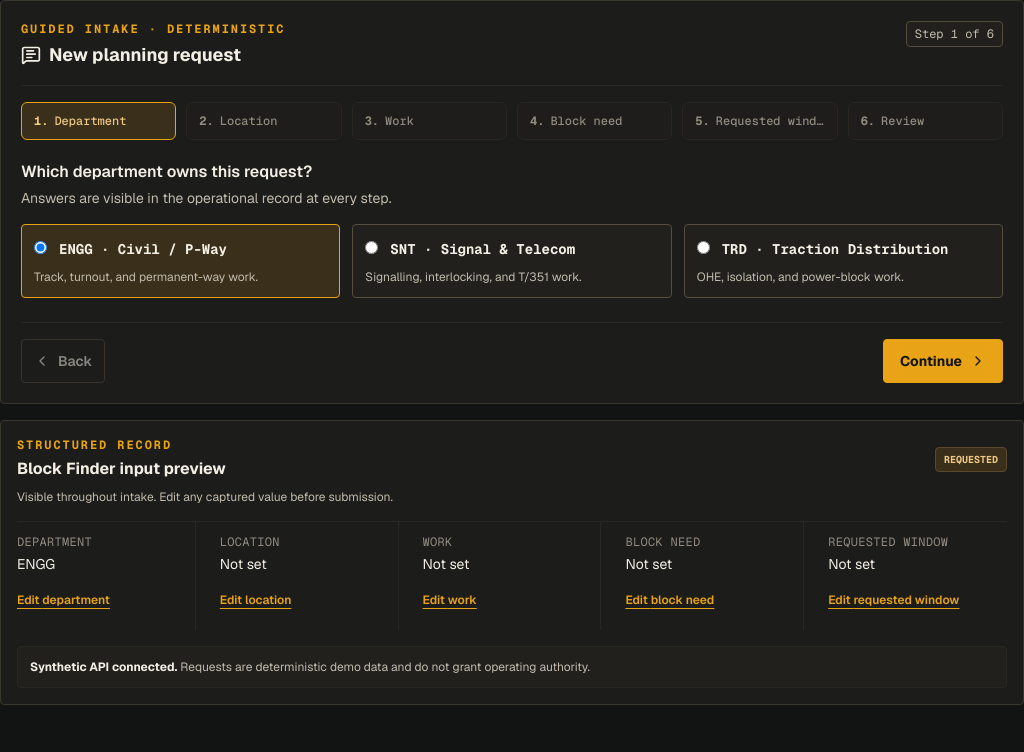
TicketComposer duration floor › states the statutory minimum for the chosen work type
Click the button "Continue".
click(943, 361)  # box [883,339,1003,383]
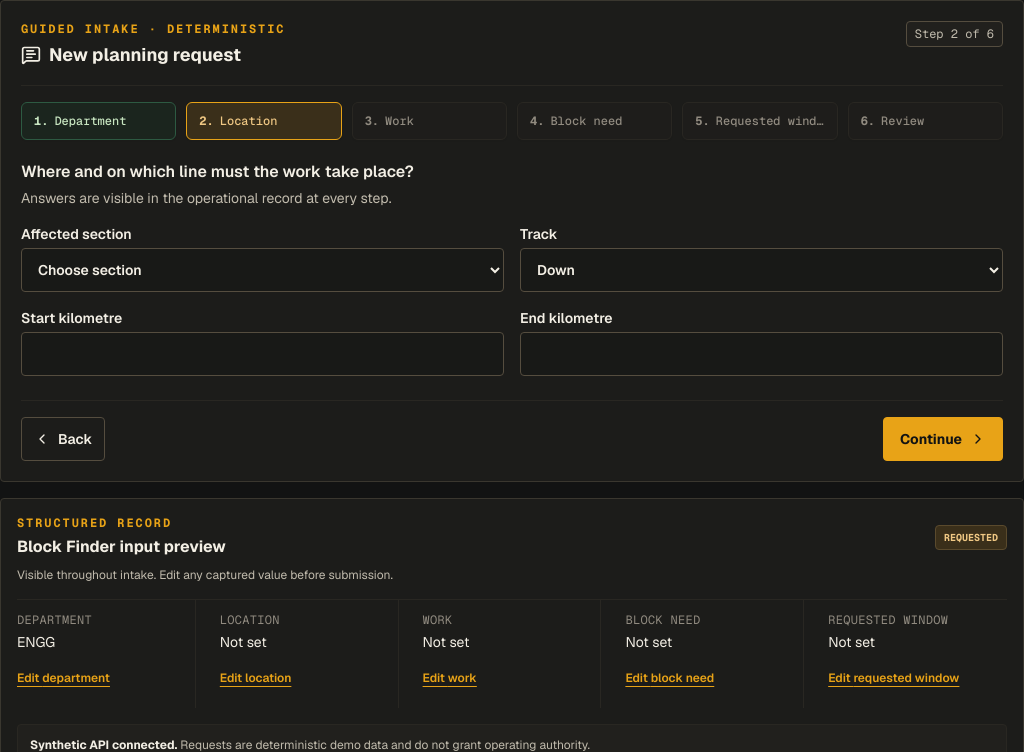
Select "Khurja–Somna (SEC_KRJ_SMQ)" in the dropdown labelled "Affected section" at (262, 270), box [21,248,504,292]
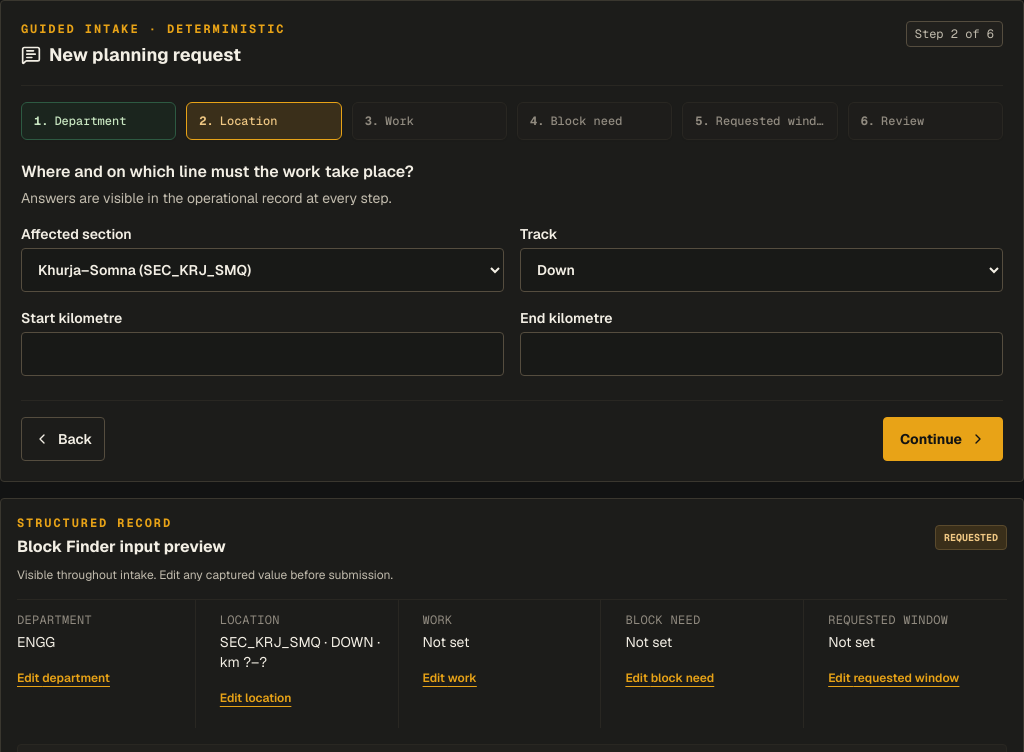
Type "60" into the number field labelled "Start kilometre".
click(262, 354); type("60")  # box [21,332,504,376]
Type "62" into the number field labelled "End kilometre".
click(762, 354); type("62")  # box [520,332,1003,376]
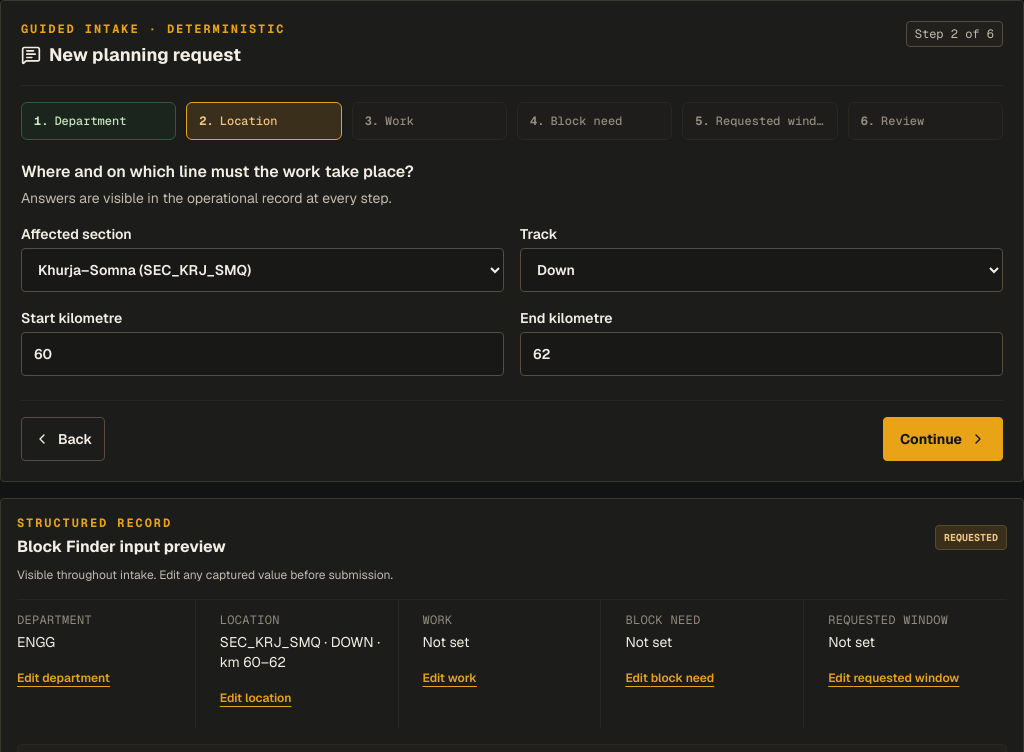
Click the button "Continue".
click(943, 439)  # box [883,417,1003,461]
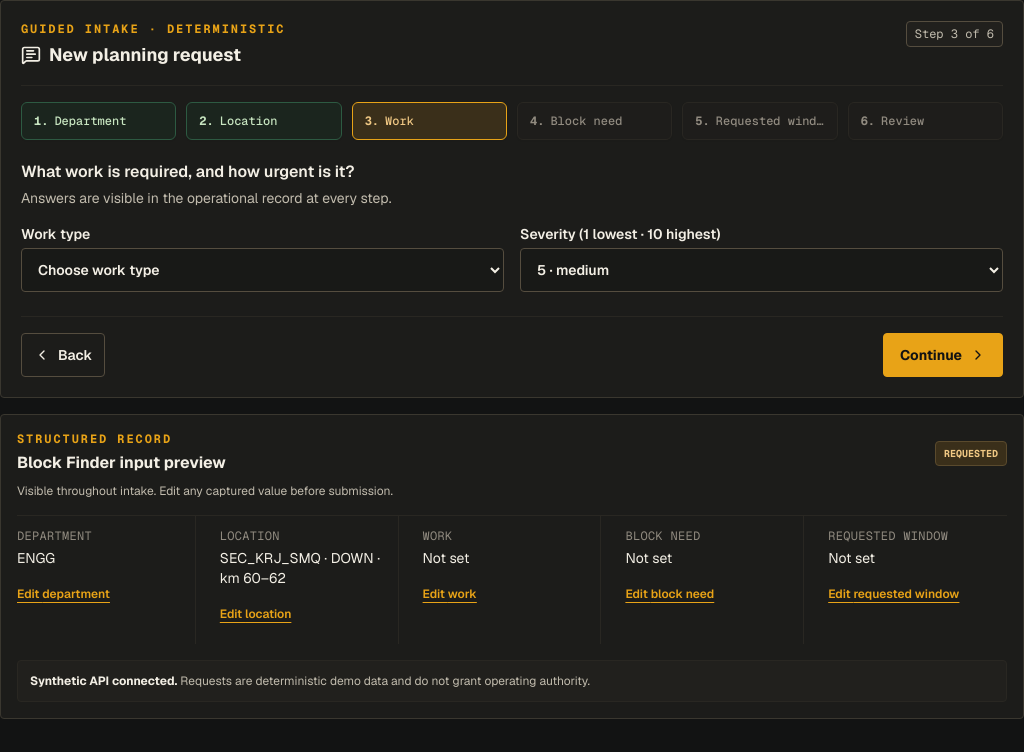
Select "TAMPING" in the dropdown labelled "Work type" at (262, 270), box [21,248,504,292]
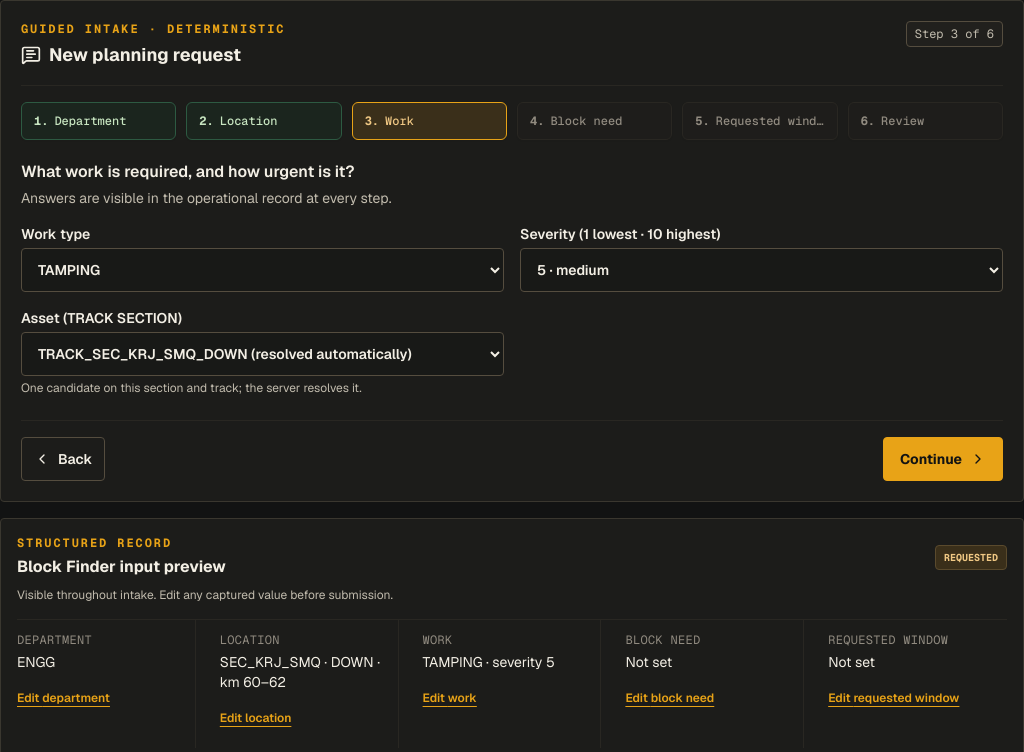
Click the button "Continue".
click(943, 459)  # box [883,437,1003,481]
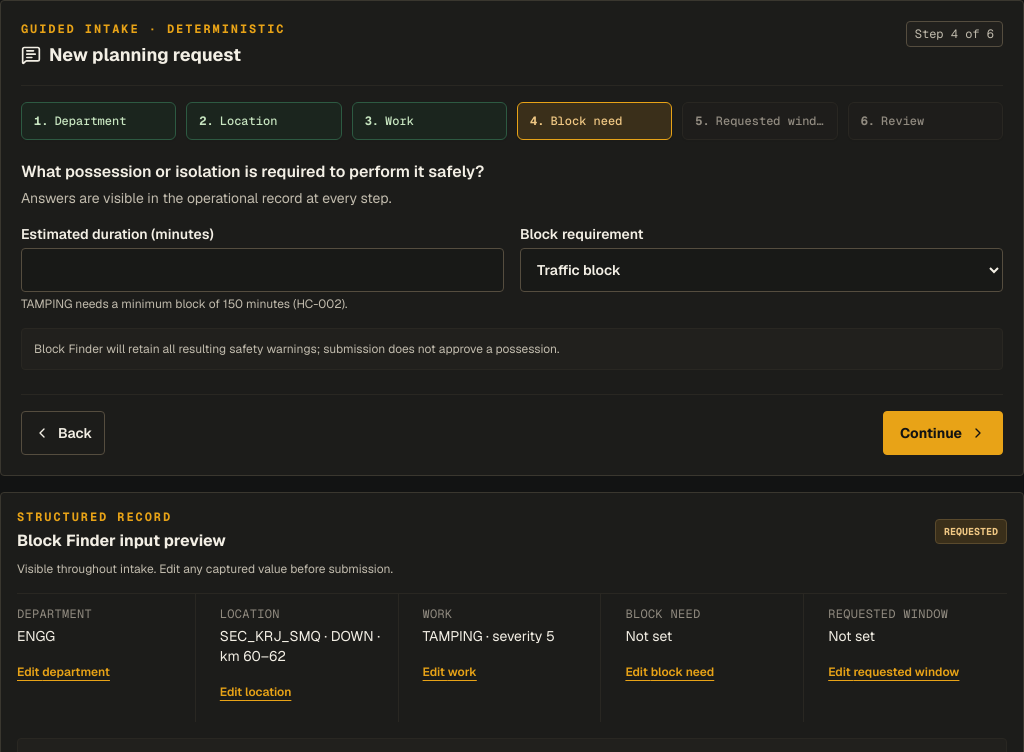
Expected: the text "TAMPING needs a minimum block of 150 minutes (HC-002)." is shown, [21,296,347,312]
